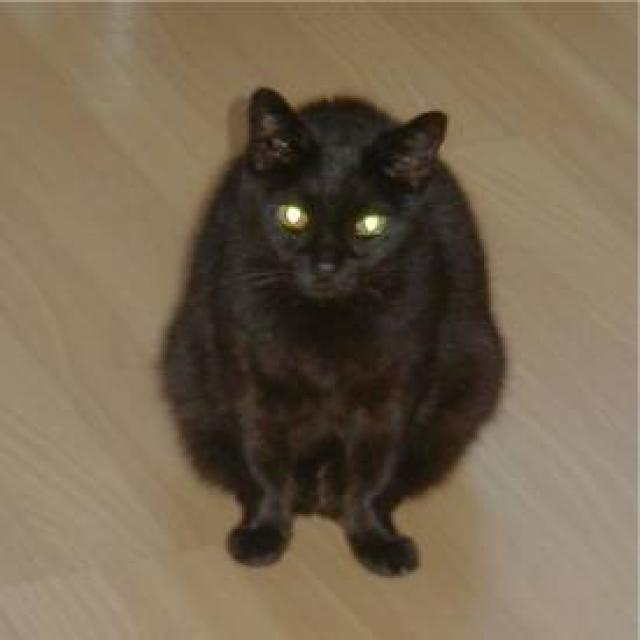Bombay: (222, 80, 467, 309)
